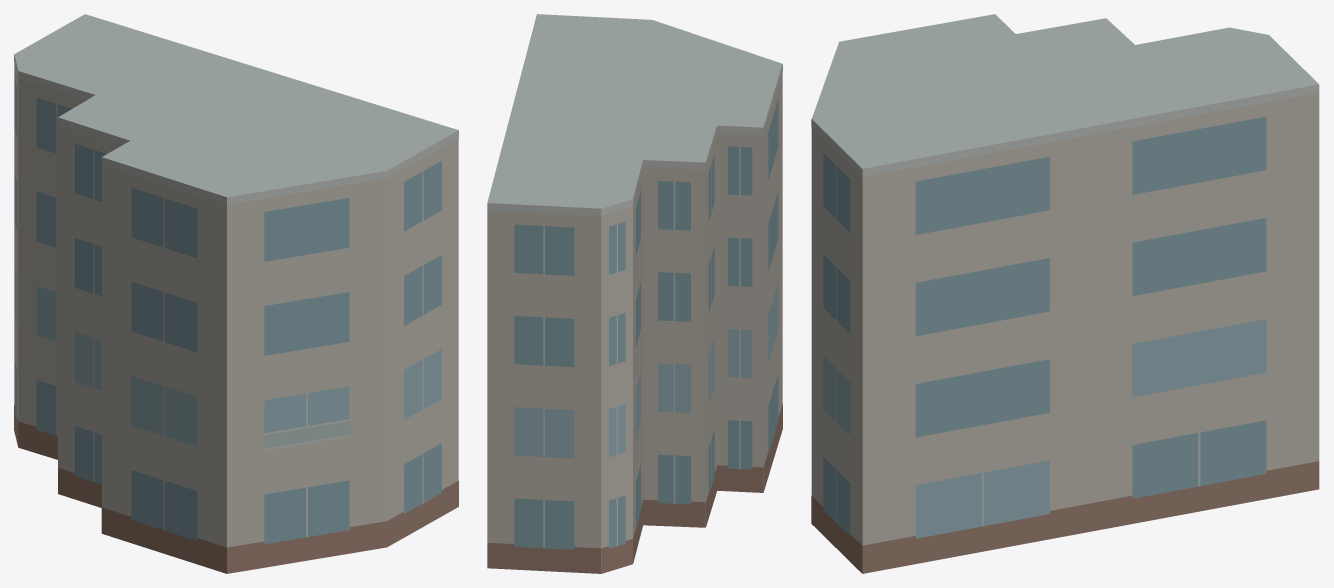
File: survey-upis-32504536.glb
3 renders of one model, left to right at view 1: azimuth 30°, elevation 25°; view 2: azimuth 150°, elevation 25°; view 3: azimuth 270°, elevation 25°, orthographic. The views are drawn at different scales.
Visible parts, largest first — view 1: survey-upis-32504536.tmp; view 2: survey-upis-32504536.tmp; view 3: survey-upis-32504536.tmp.
Boxes of the visible parts, box(x1,y1,x2,y2) form: survey-upis-32504536.tmp: box(14, 14, 458, 573); survey-upis-32504536.tmp: box(487, 14, 782, 573); survey-upis-32504536.tmp: box(811, 14, 1319, 573).
Size of the model in its own units: 9.9 by 12.05 by 13.7.
